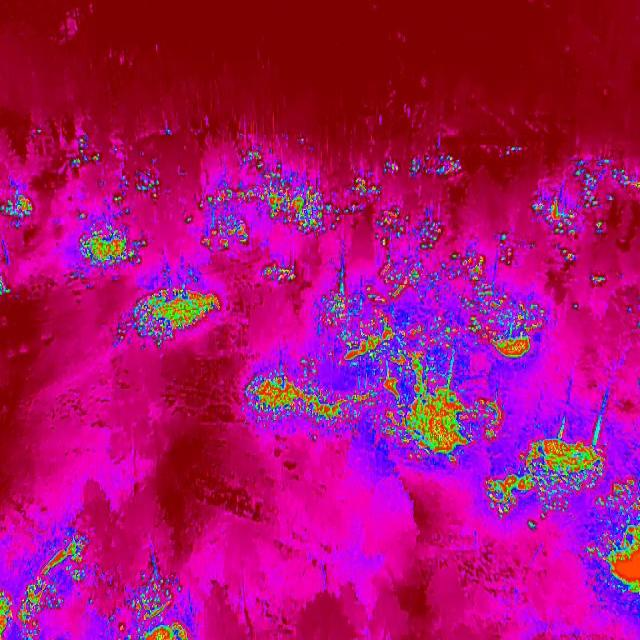fire: (195, 182, 383, 288), (474, 410, 621, 530), (374, 349, 508, 473), (528, 147, 640, 292), (458, 252, 556, 374), (0, 529, 101, 640), (238, 364, 382, 440), (116, 279, 230, 349), (587, 466, 640, 616), (370, 198, 460, 284), (324, 284, 412, 366), (77, 202, 155, 282), (125, 576, 204, 640), (380, 146, 474, 198), (114, 162, 176, 208), (241, 144, 308, 184), (0, 184, 40, 230), (64, 132, 102, 173), (0, 273, 13, 299), (115, 622, 131, 636)
